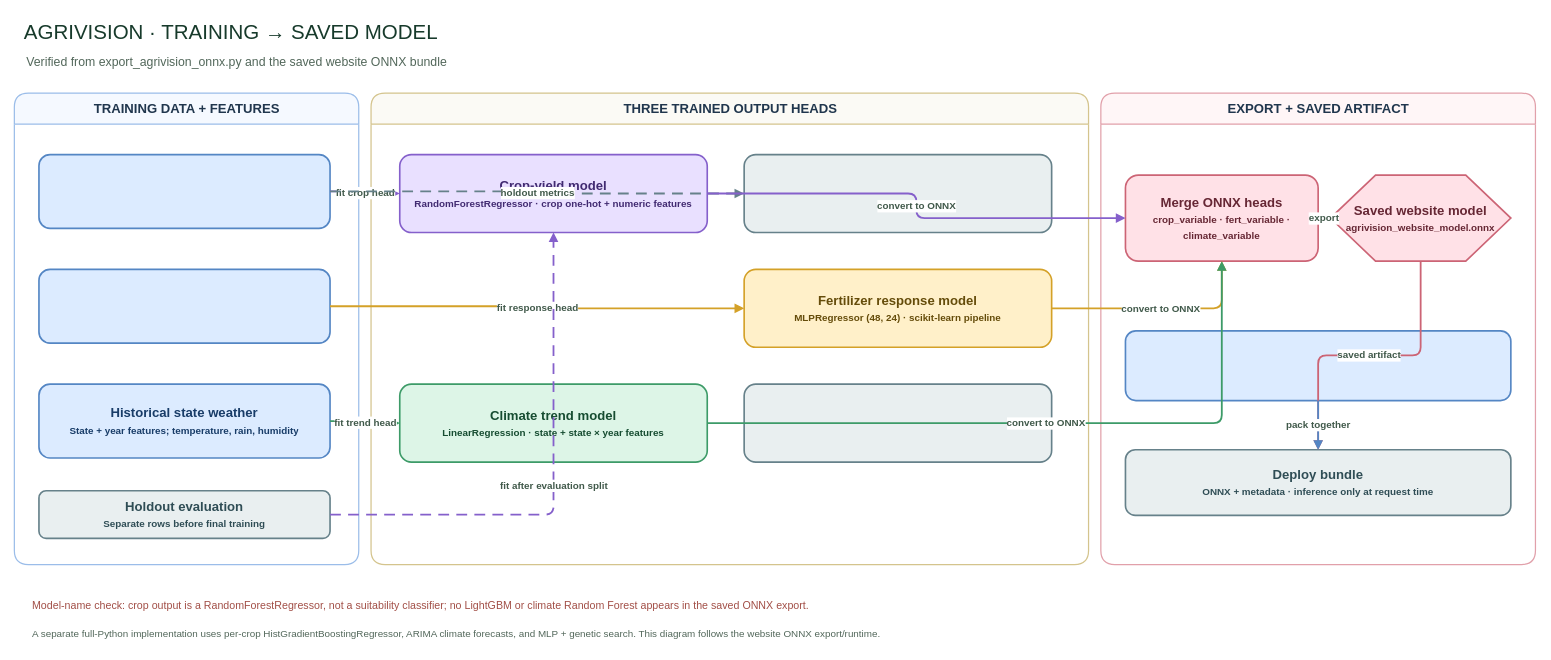
Some shapes in this 1551 by 660 pixel diagram are drawn without their labels. The centre of each missing label's shape, as x and y in pixels:
"Crop yield data Crop identity + soil/weather features" belongs at [184,191].
"Fertilizer/yield records Associational labels; not treatment-response trials" belongs at [184,306].
"Metadata JSON Labels · defaults · climate summaries · metrics" belongs at [1317,365].
"No suitability classifier Source data has no labeled crop-suitability outcome" belongs at [897,422].
"Reported yield metrics Holdout MAE 1.194 t/ha · R² 0.936 · 3,904 rows" belongs at [897,193].
